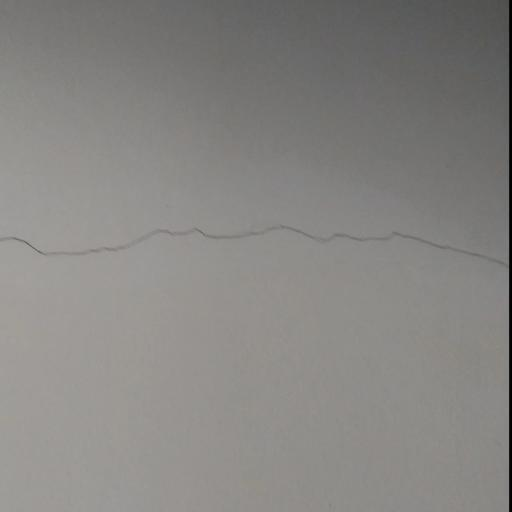minor_crack: (0, 197, 512, 287)
